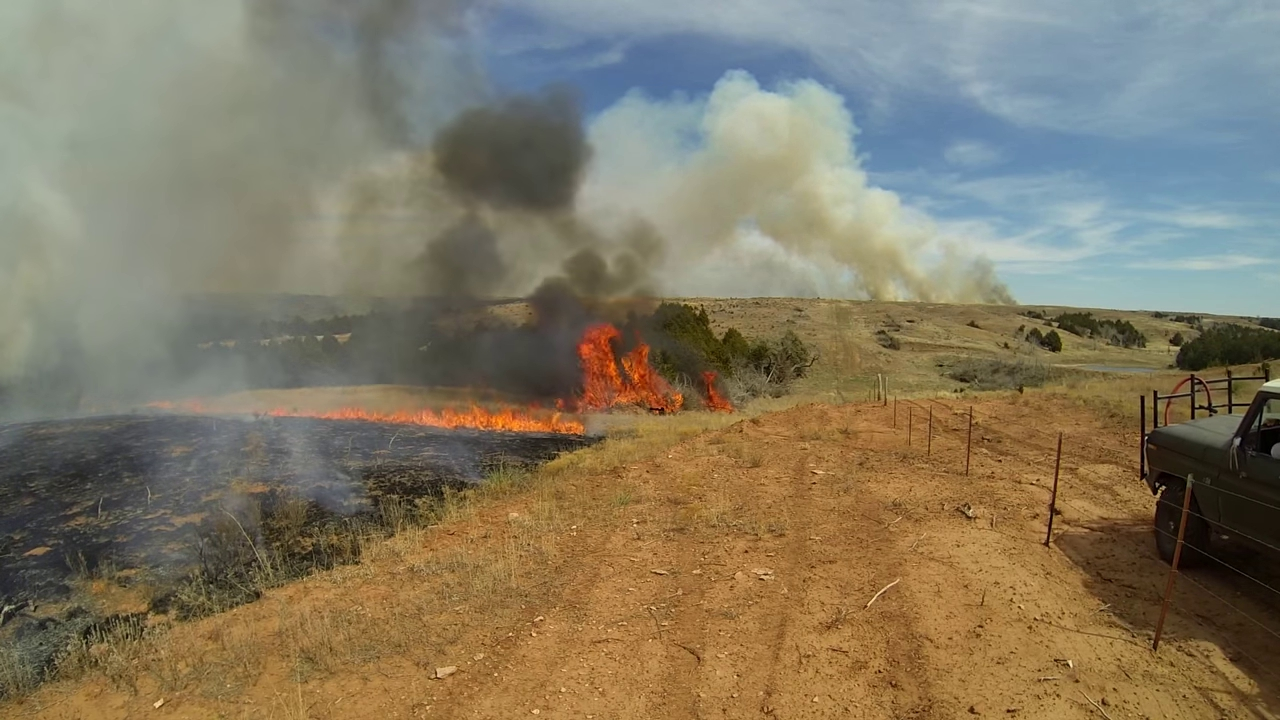forest_fire: (247, 322, 685, 433), (702, 371, 732, 409), (146, 399, 215, 412)
